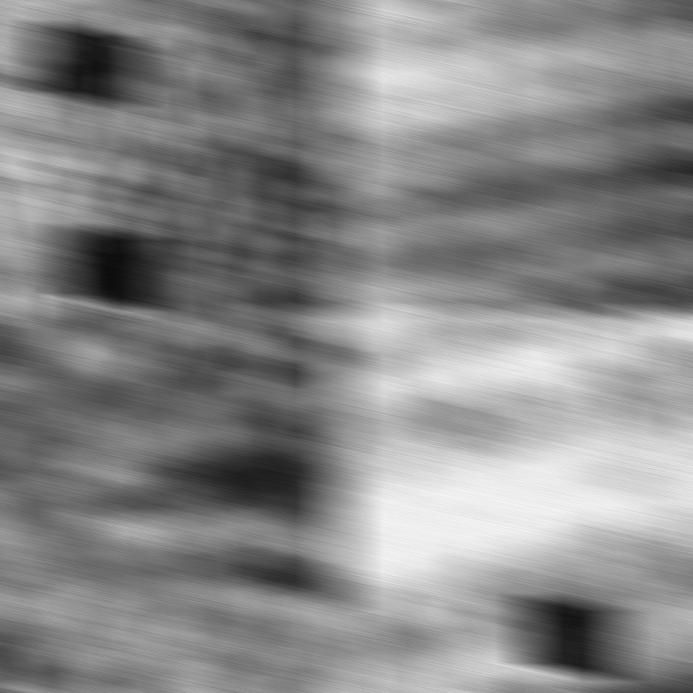AirbagV2: (0, 309, 349, 693), (0, 0, 349, 313)
